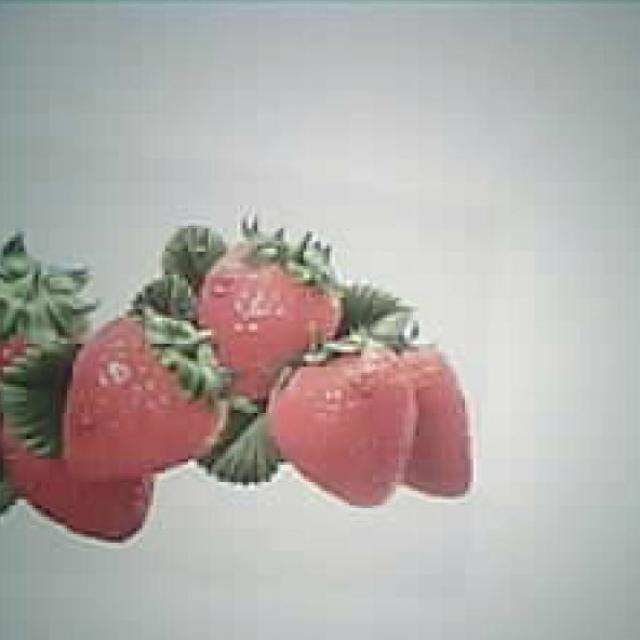Healthy Fruit: (0, 212, 476, 542)
